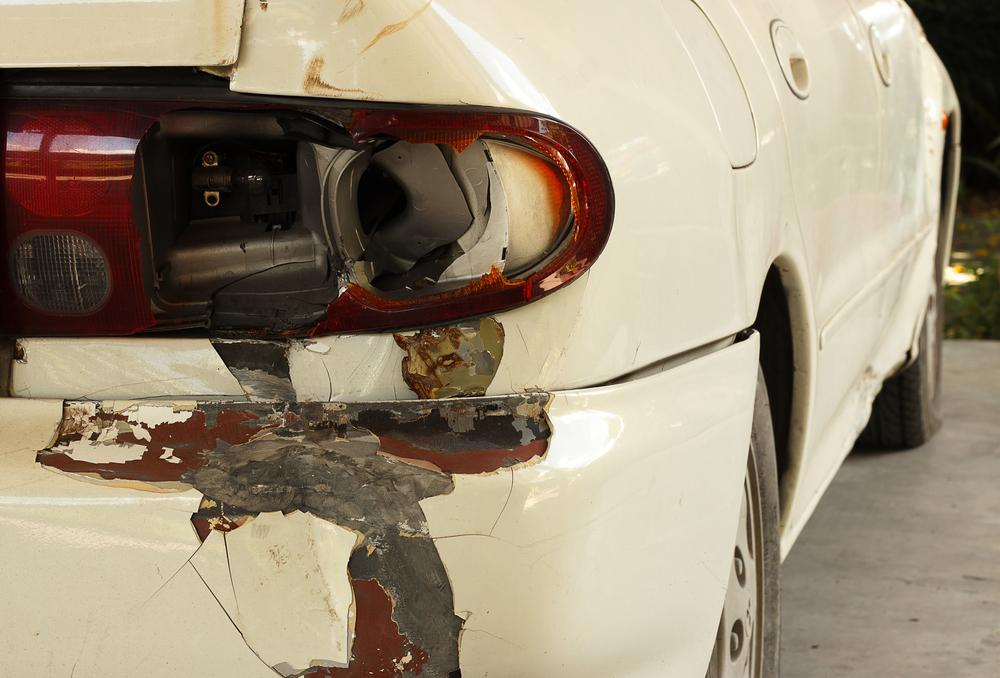lamp broken: (0, 86, 614, 340)
